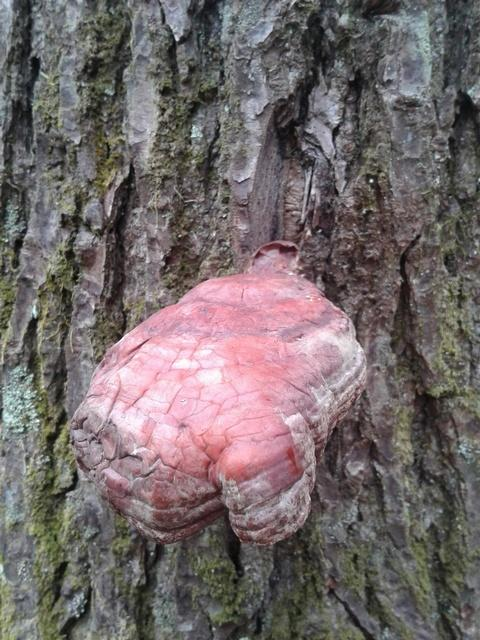Non-edible Mushroom: (68, 239, 368, 548)
